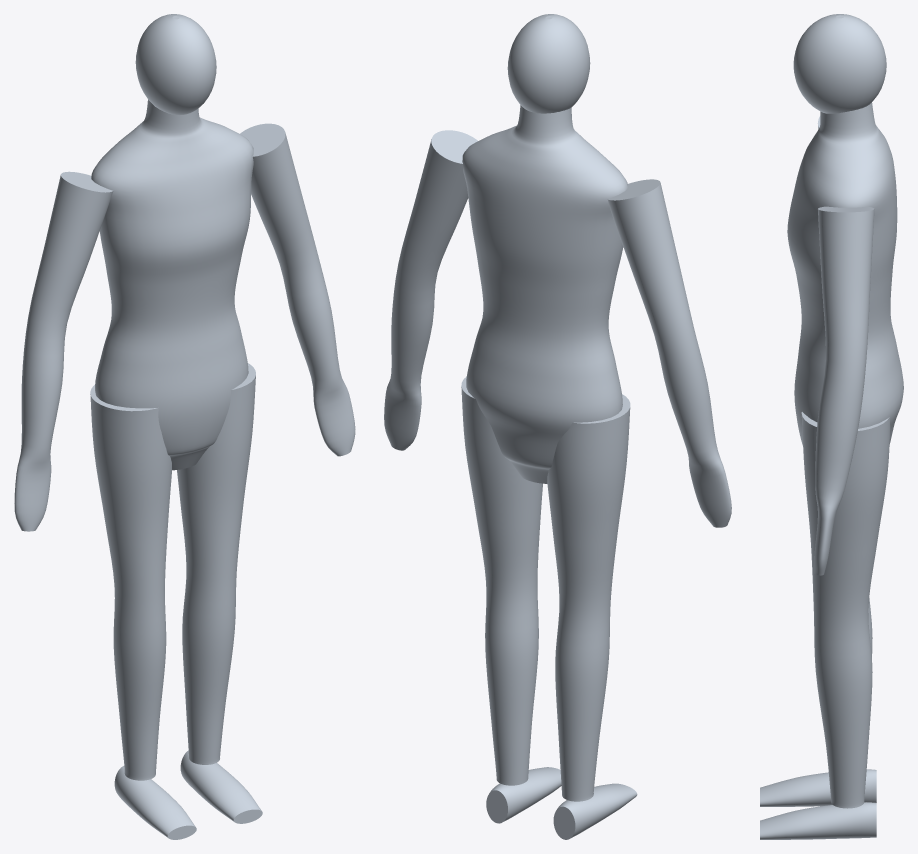
Rendered from avatar.glb.
3 renders of one model, left to right at view 1: azimuth 30°, elevation 25°; view 2: azimuth 150°, elevation 25°; view 3: azimuth 270°, elevation 25°, orthographic. The views are drawn at different scales.
Parts seen in each view (by area): view 1: SampleMannequin; view 2: SampleMannequin; view 3: SampleMannequin.
Boxes of the visible parts, x1,y1,x2,y2 form: SampleMannequin: (14, 14, 355, 839); SampleMannequin: (384, 14, 731, 839); SampleMannequin: (760, 14, 903, 839).
Bounding box in the file's own units: 0.7934 × 1.75 × 0.284.
